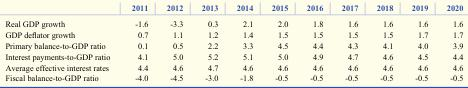table: (4, 4, 462, 82)
table column: (4, 4, 120, 82), (120, 4, 156, 82), (156, 4, 191, 82), (191, 4, 226, 82), (226, 4, 261, 82), (261, 4, 296, 82), (296, 4, 331, 82), (331, 4, 366, 82), (366, 4, 401, 82), (401, 4, 436, 82), (436, 4, 462, 82)
table column header: (4, 4, 462, 16)
table row: (4, 16, 462, 29), (4, 4, 462, 16), (4, 29, 462, 40), (4, 40, 462, 51), (4, 51, 462, 62), (4, 62, 462, 72), (4, 72, 462, 82)
